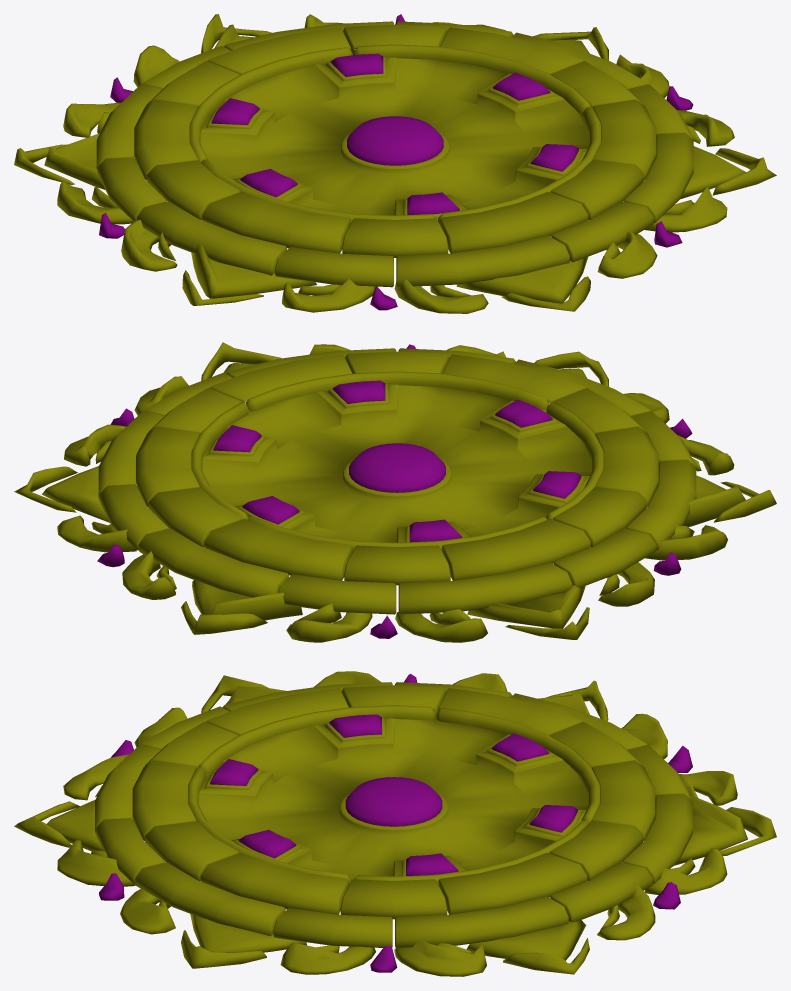
The model's file is LDI_Plaque_Aura.fbx.
The picture shows the model from 3 angles, top to bottom: view 1: azimuth 30°, elevation 25°; view 2: azimuth 150°, elevation 25°; view 3: azimuth 270°, elevation 25°; orthographic projection.
Parts seen in each view (by area): view 1: LDI_Plaque_Aura, LDI_Plaque_Aura_Cristaux; view 2: LDI_Plaque_Aura, LDI_Plaque_Aura_Cristaux; view 3: LDI_Plaque_Aura, LDI_Plaque_Aura_Cristaux.
Part boxes in pixels (x1,y1,x2,y2): LDI_Plaque_Aura: [14, 14, 776, 313]; LDI_Plaque_Aura_Cristaux: [99, 14, 693, 310]; LDI_Plaque_Aura: [14, 342, 776, 642]; LDI_Plaque_Aura_Cristaux: [97, 344, 692, 638]; LDI_Plaque_Aura: [14, 671, 776, 976]; LDI_Plaque_Aura_Cristaux: [99, 673, 692, 972].
Size of the model in its own units: 457 by 32.79 by 508.
